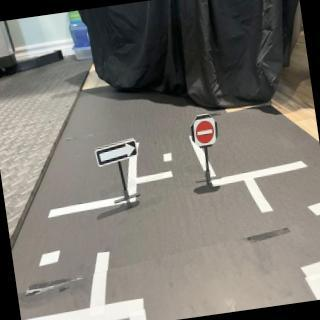sign_noentry: (193, 118, 218, 147)
sign_oneway_right: (93, 138, 142, 170)
